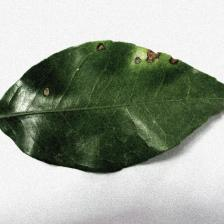canker: (72, 39, 185, 89)
